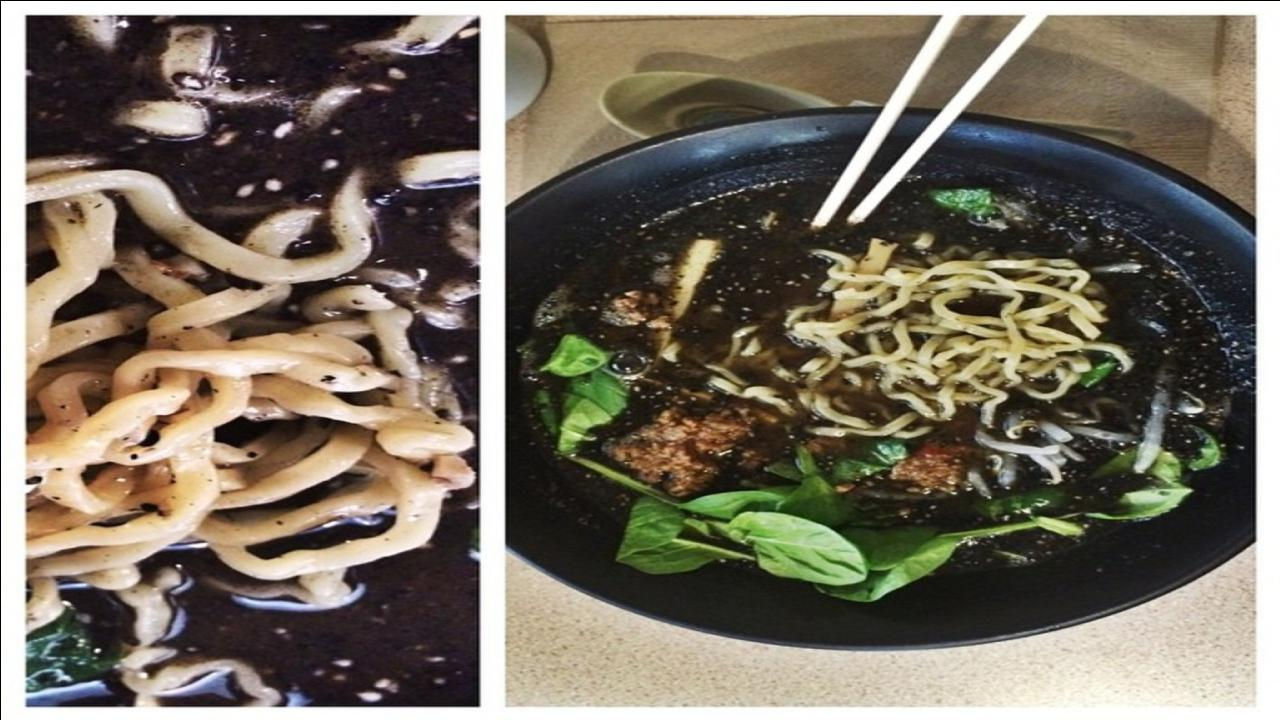chopstick: (800, 13, 1049, 224)
